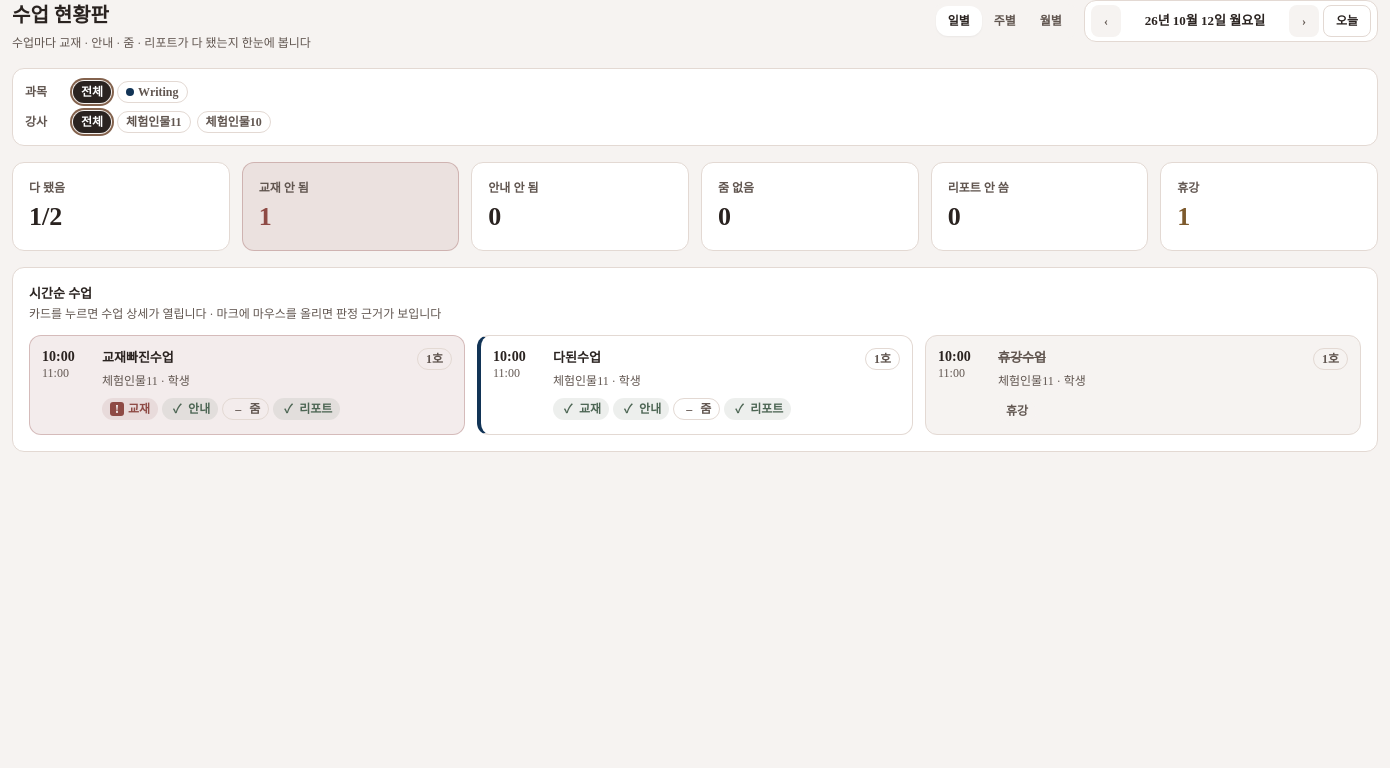
Test: 날짜 상자는 머리에 긴 날짜로, 범례 띠·부가 줄은 없고, 주 기간은 「MM-DD ~ MM-DD」다 (§34 · §35)
Check: the text "교재빠진수업" is shown, box [102,348,174,368]
Check: the text "26년 10월 12일 월요일" is shown, box [1145,13,1265,28]
Click the button "주별" at (1005, 21), box [982,6,1028,36]
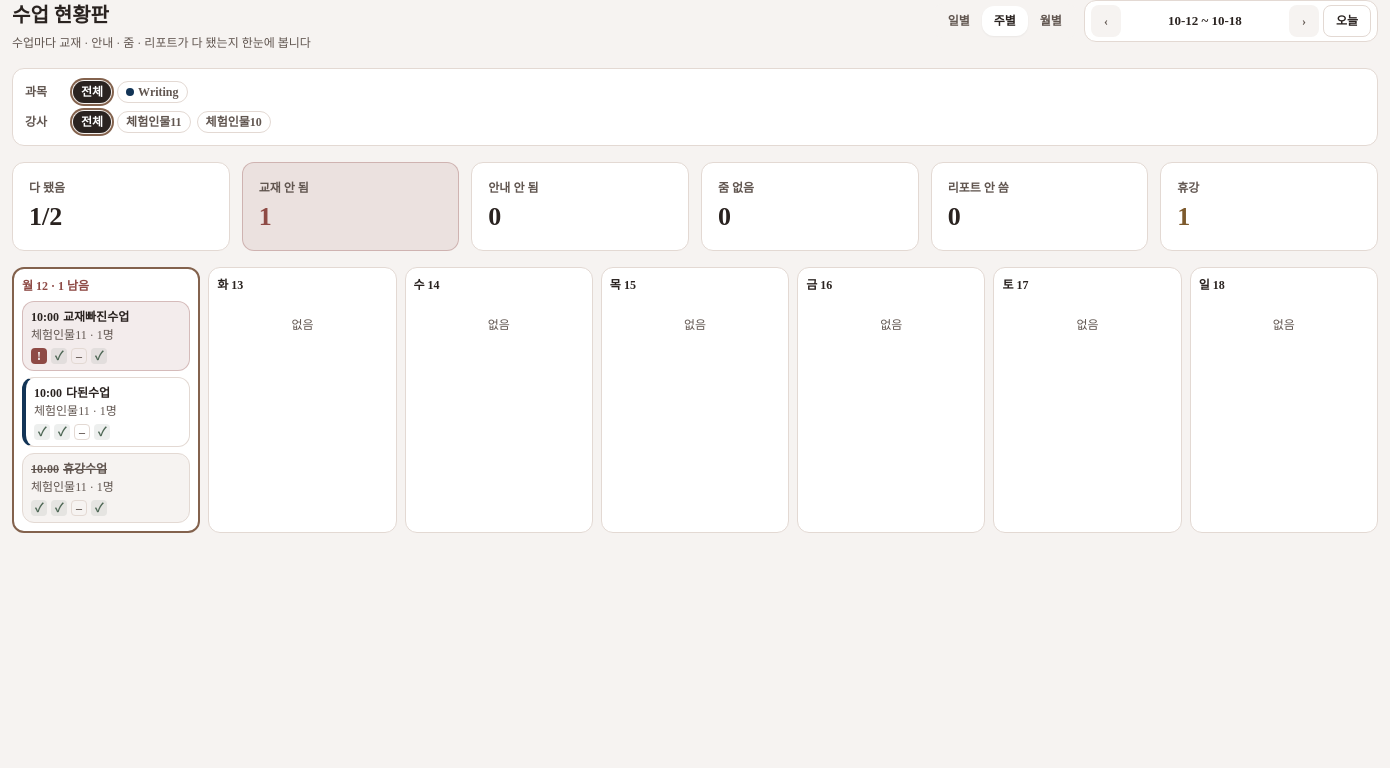
Check: the text "10-12 ~ 10-18" is shown, box [1168,13,1242,28]
